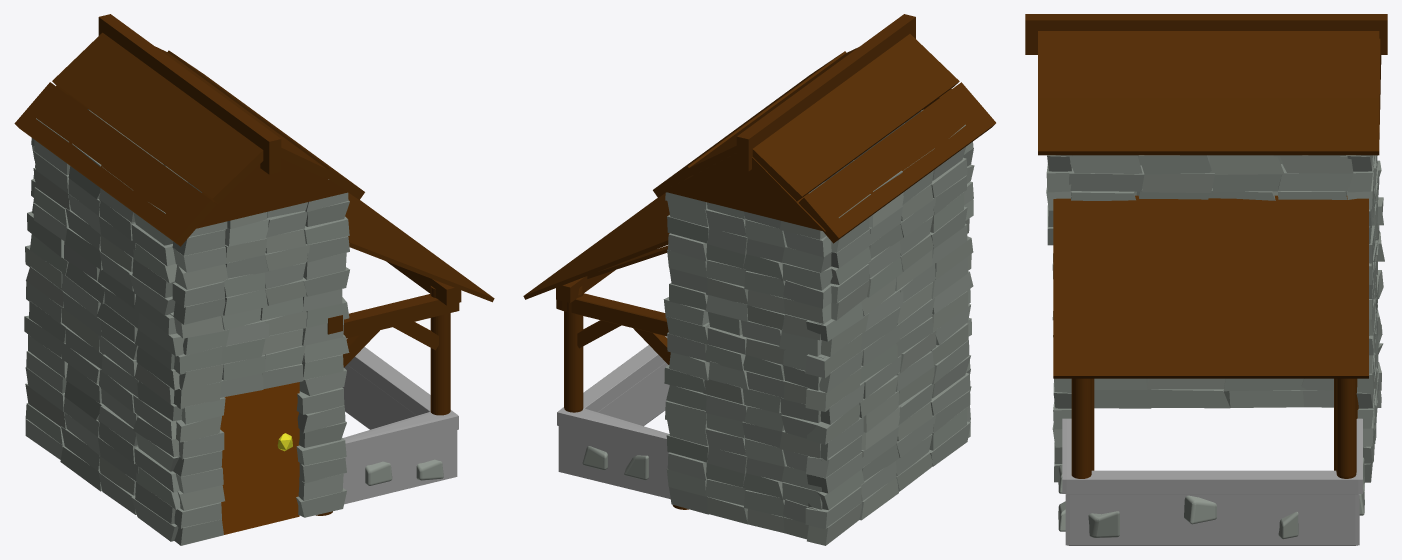
Rendered from merchantcolor.fbx.
3 views of the same model, side by side, from view 1: azimuth 30°, elevation 25°; view 2: azimuth 150°, elevation 25°; view 3: azimuth 270°, elevation 25° (orthographic). The views are drawn at different scales.
Parts seen in each view (by area): view 1: Cube.015, Cube.018, Cube.014, Cube.027, Cube.028, Cube.016, Cube.017, Cube.003, Cube.029, Cube.002, Cube.001, Cube.024 (+6 smaller); view 2: Cube.015, Cube.012, Cube.013, Cube.027, Cube.028, Cube.016, Cube.003, Cube.004, Cube.029, Cube.002, Cube.001, Cube.006 (+6 smaller); view 3: Cube.001, Cube.026, Cube.025, Cube.003, Cube.020, Cube.002, Cube.015, Cube.029, Cube.012, Cylinder.001, Cylinder, Cube.014 (+5 smaller).
Boxes of the visible parts, <box> form: Cube.015: <box>24,211,184,541</box>; Cube.018: <box>170,289,349,545</box>; Cube.014: <box>172,179,349,324</box>; Cube.027: <box>52,32,263,203</box>; Cube.028: <box>14,82,215,246</box>; Cube.016: <box>33,118,176,315</box>; Cube.017: <box>220,382,299,534</box>; Cube.003: <box>342,364,457,504</box>; Cube.029: <box>98,14,281,174</box>; Cube.002: <box>343,338,458,457</box>; Cube.001: <box>345,193,494,302</box>; Cube.024: <box>196,158,347,228</box>; Cube.015: <box>805,223,973,545</box>; Cube.012: <box>663,283,826,539</box>; Cube.013: <box>665,192,833,323</box>; Cube.027: <box>752,34,959,201</box>; Cube.028: <box>798,82,995,243</box>; Cube.016: <box>830,124,967,320</box>; Cube.003: <box>558,362,670,498</box>; Cube.004: <box>663,153,825,231</box>; Cube.029: <box>736,14,915,171</box>; Cube.002: <box>557,336,669,452</box>; Cube.001: <box>523,193,669,299</box>; Cube.006: <box>556,293,668,336</box>; Cube.001: <box>1053,195,1368,378</box>; Cube.026: <box>1038,31,1379,97</box>; Cube.025: <box>1038,97,1379,155</box>; Cube.003: <box>1065,494,1359,545</box>; Cube.020: <box>1066,155,1353,200</box>; Cube.002: <box>1062,418,1362,494</box>; Cube.015: <box>1094,160,1384,408</box>; Cube.029: <box>1025,14,1387,54</box>; Cube.012: <box>1356,162,1379,482</box>; Cylinder.001: <box>1071,378,1091,478</box>; Cylinder: <box>1336,378,1356,478</box>; Cube.014: <box>1046,155,1072,245</box>.
Size of the model in its own units: 1371 by 1635 by 1241.
